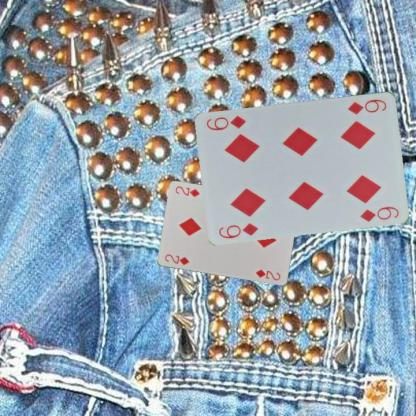2d: (162, 252, 190, 266)
6d: (216, 220, 260, 239), (345, 96, 388, 115)
